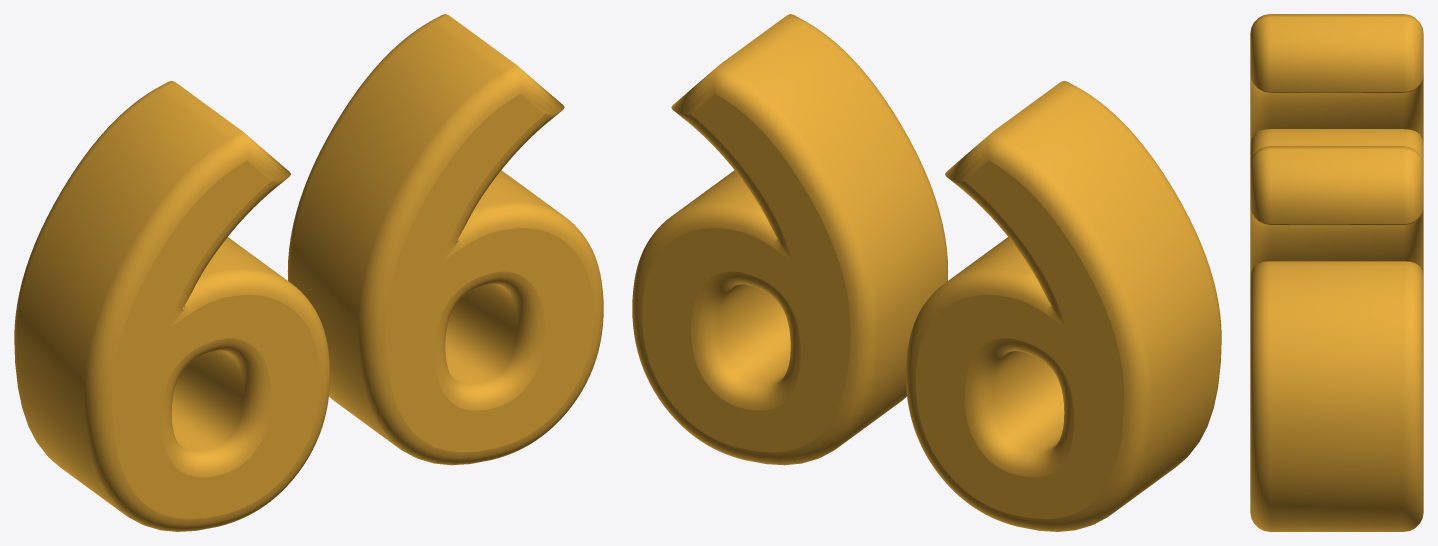
The picture shows the model from 3 angles, left to right: view 1: azimuth 30°, elevation 25°; view 2: azimuth 150°, elevation 25°; view 3: azimuth 270°, elevation 25°; orthographic projection.
Parts seen in each view (by area): view 1: Text; view 2: Text; view 3: Text.
Boxes of the visible parts, x1,y1,x2,y2 form: Text: (14, 14, 603, 531); Text: (632, 14, 1221, 531); Text: (1250, 14, 1423, 531).
Bounding box in the file's own units: 88.57 × 63.4 × 26.
